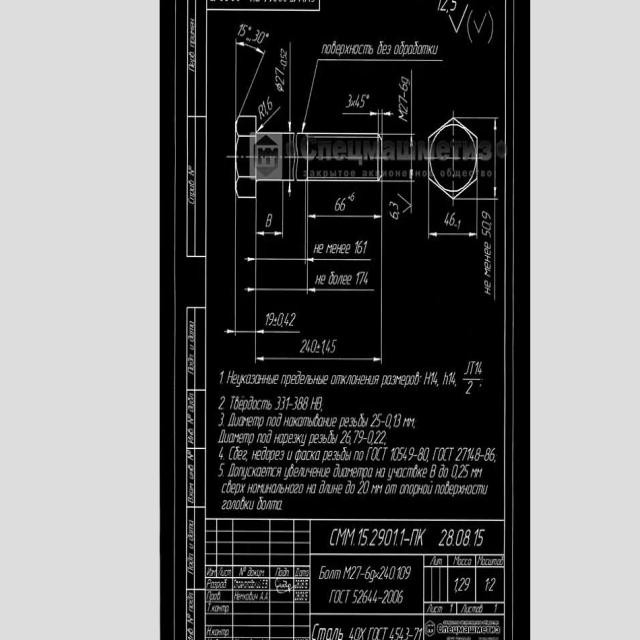marking_line: (232, 45, 262, 117), (298, 58, 323, 133), (221, 327, 304, 338), (254, 356, 383, 363), (308, 212, 382, 223), (243, 255, 315, 266), (246, 286, 320, 295), (341, 109, 394, 120), (427, 231, 480, 241), (493, 119, 498, 198), (408, 136, 416, 179), (256, 229, 284, 239), (285, 93, 292, 132), (389, 199, 399, 222), (287, 183, 294, 203)
numeric: (273, 47, 290, 83), (369, 526, 396, 548), (301, 339, 337, 355), (332, 196, 359, 217), (383, 586, 406, 608), (396, 74, 409, 112), (264, 312, 299, 325), (346, 93, 372, 110), (438, 525, 457, 548), (443, 212, 466, 230), (354, 588, 378, 605), (480, 207, 493, 237), (456, 526, 471, 551), (395, 564, 413, 583), (367, 429, 387, 446), (453, 574, 469, 594), (385, 410, 402, 428), (356, 526, 368, 549), (397, 526, 408, 551), (355, 240, 372, 256), (379, 566, 396, 581), (485, 575, 499, 593), (475, 527, 486, 549), (357, 268, 370, 286), (439, 0, 458, 12), (252, 28, 264, 46), (349, 564, 361, 582), (262, 98, 274, 115), (341, 430, 352, 447), (371, 412, 382, 428), (237, 22, 247, 37), (354, 428, 363, 444)
special_symbol: (274, 81, 284, 93), (247, 25, 253, 31), (265, 33, 270, 39)
